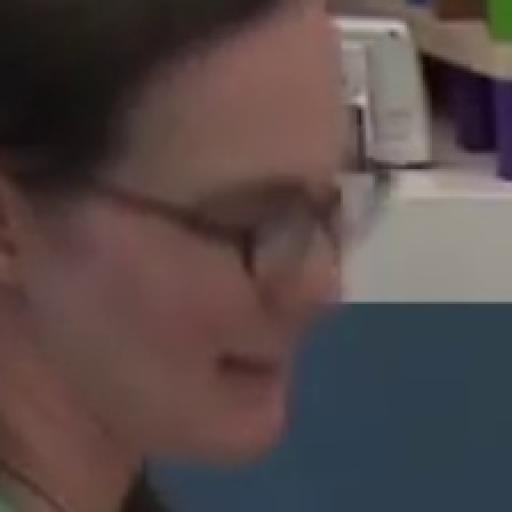Autism: (19, 2, 424, 480)
